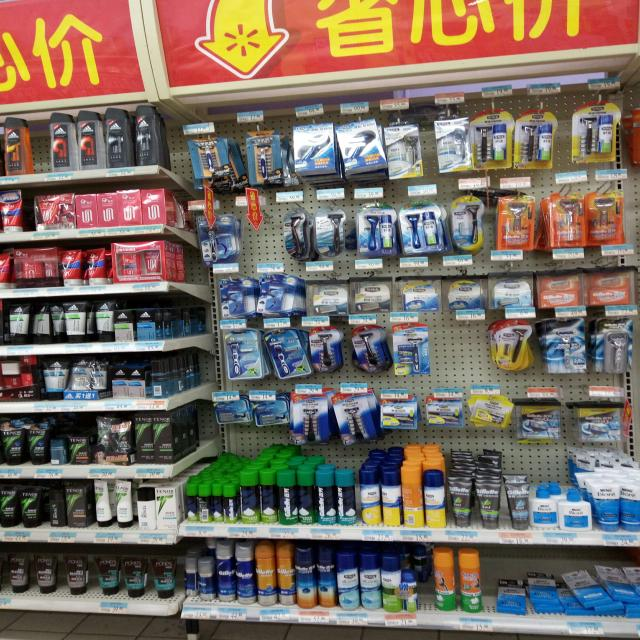unorganised: (268, 323, 391, 377), (332, 384, 379, 446), (337, 120, 385, 168), (89, 478, 135, 528), (239, 469, 276, 523), (401, 462, 424, 531), (280, 206, 311, 257), (422, 468, 447, 530), (183, 553, 214, 601), (471, 391, 511, 426), (32, 301, 64, 342), (379, 469, 401, 528), (295, 467, 316, 526), (213, 397, 252, 426), (93, 298, 114, 339), (183, 484, 199, 523), (210, 482, 225, 522)
